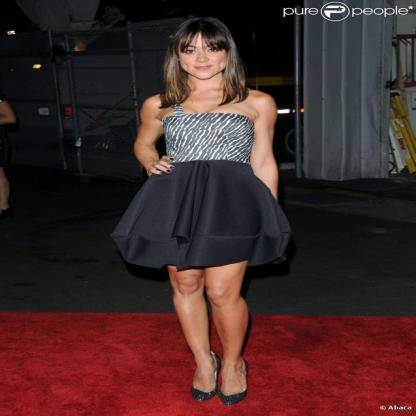long-hair: (153, 80, 256, 104)
